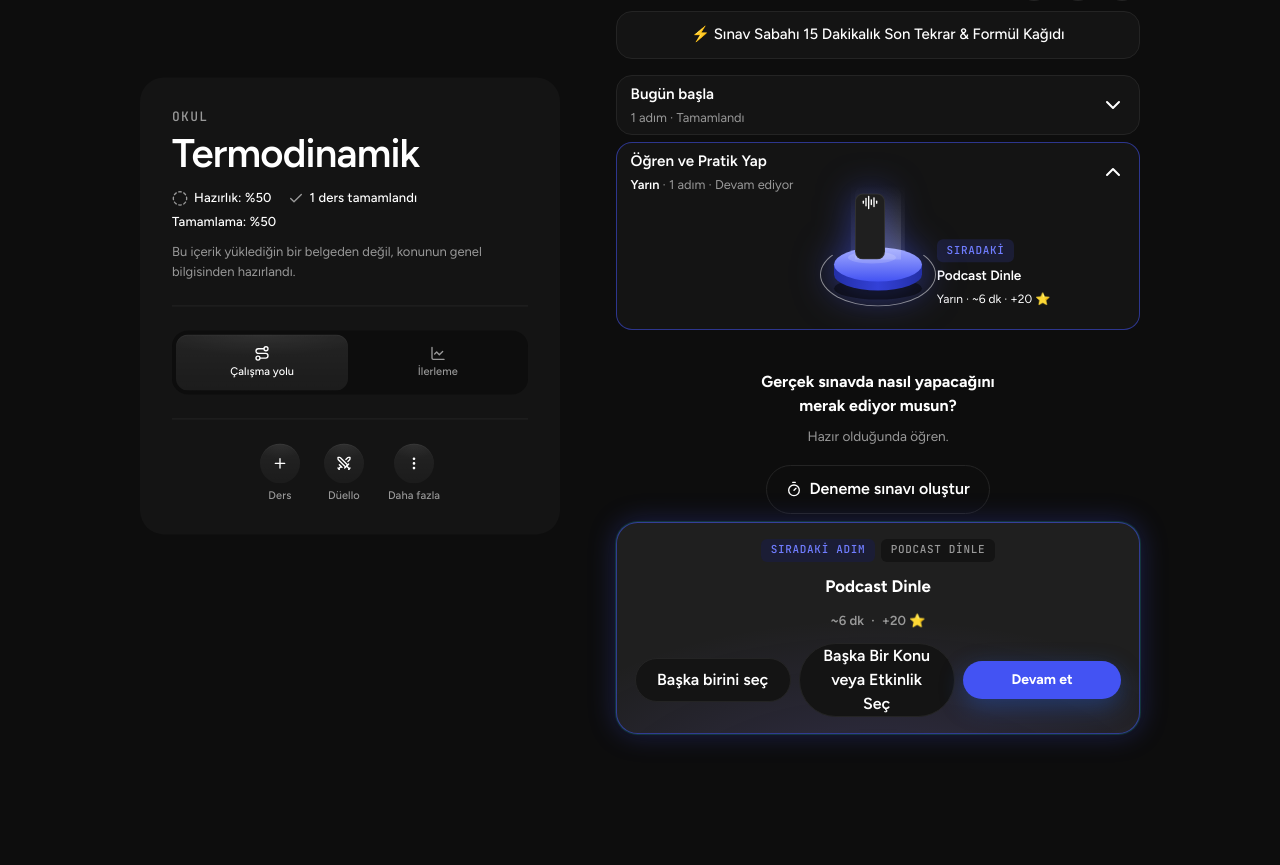
Test: kompakt yol ve bitmiş adım (25 Ekim 2026) › bitmiş dersi yoldan seçince kredisiz inceleme ve sıradaki adımı sunar
The image size is (1280, 865).
Click the button "Bugün başla 1 adım · Tamamlandı": (672,94) [617,76,1139,134]
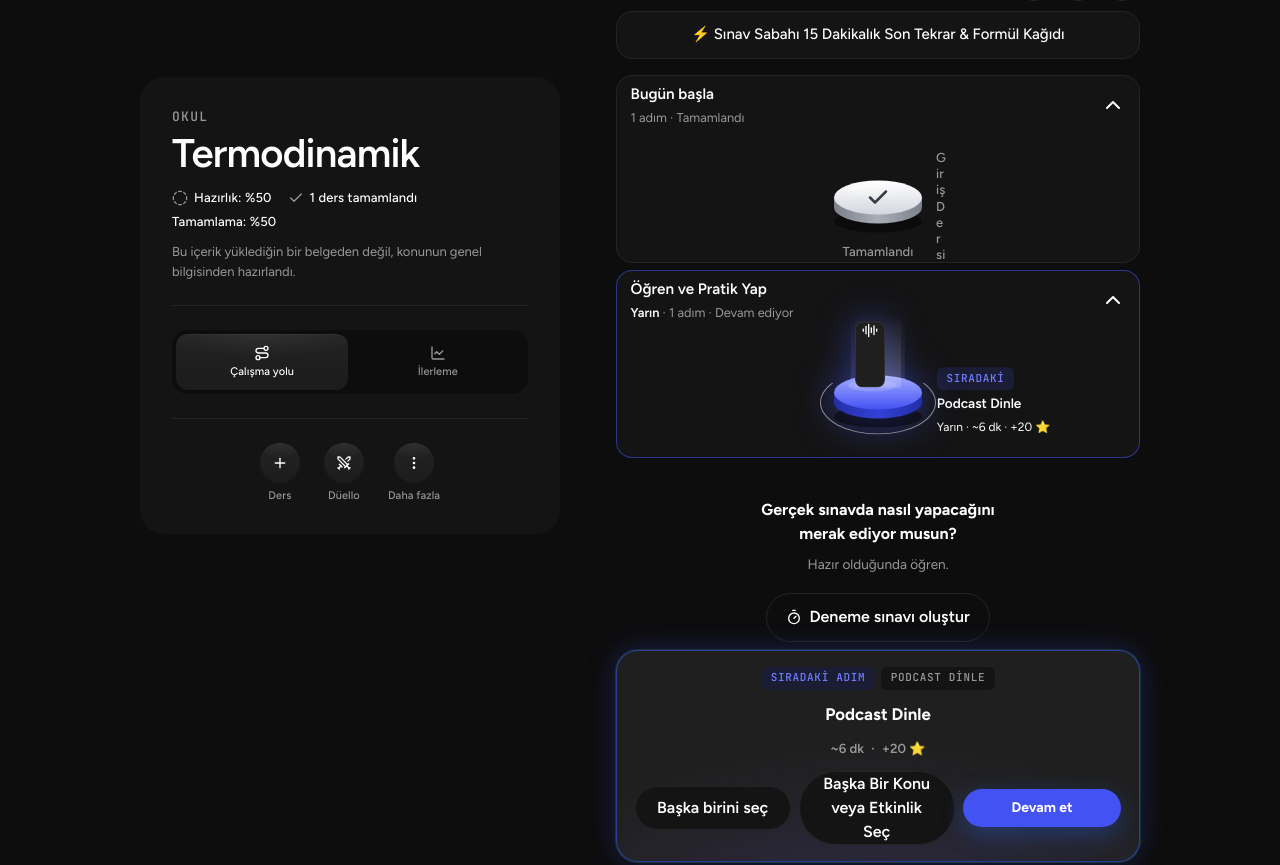
Click the button named "Giriş Dersi": (878,203) [832,172,924,234]
(page scrolled)
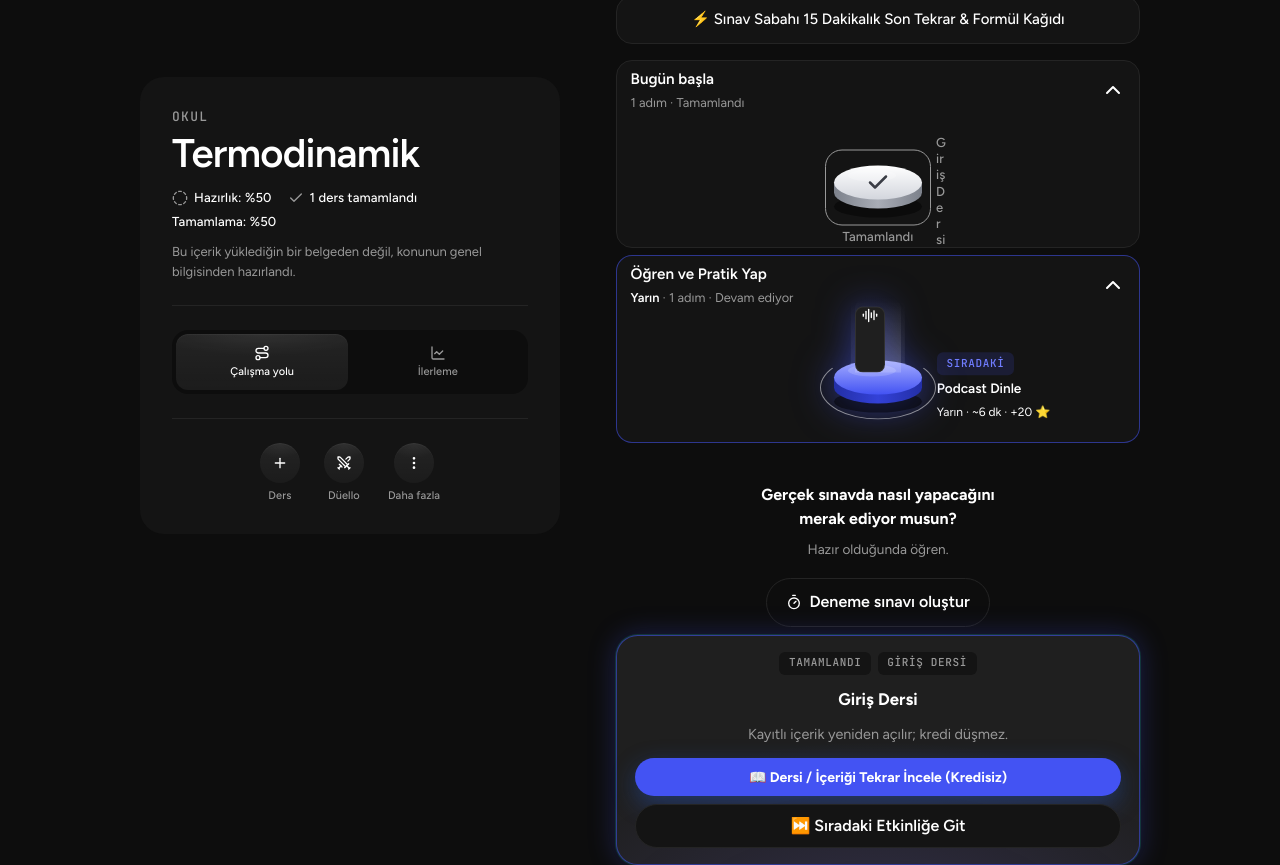
Now the element named "Tamamlanan adım" is shown, box [616,635,1140,864]
